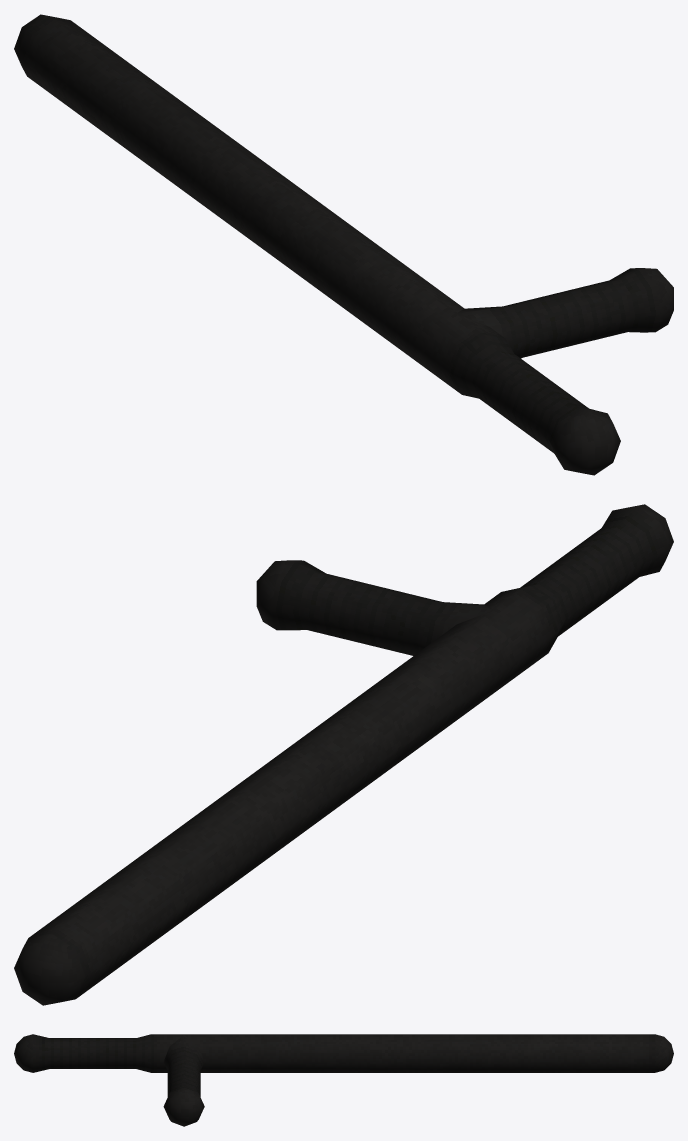
The model's file is police_baton_mp_1.glb.
3 views of the same model, one above another, from view 1: azimuth 30°, elevation 25°; view 2: azimuth 150°, elevation 25°; view 3: azimuth 270°, elevation 25° (orthographic). The views are drawn at different scales.
Parts seen in each view (by area): view 1: police_baton_mp_1; view 2: police_baton_mp_1; view 3: police_baton_mp_1.
Part boxes in pixels (bbox=[...]): police_baton_mp_1: bbox=[14, 14, 673, 475]; police_baton_mp_1: bbox=[14, 504, 673, 1005]; police_baton_mp_1: bbox=[14, 1034, 673, 1126].
Bounding box in the file's own units: 0.16 × 0.04 × 0.64.
1 material, 1 textured.
